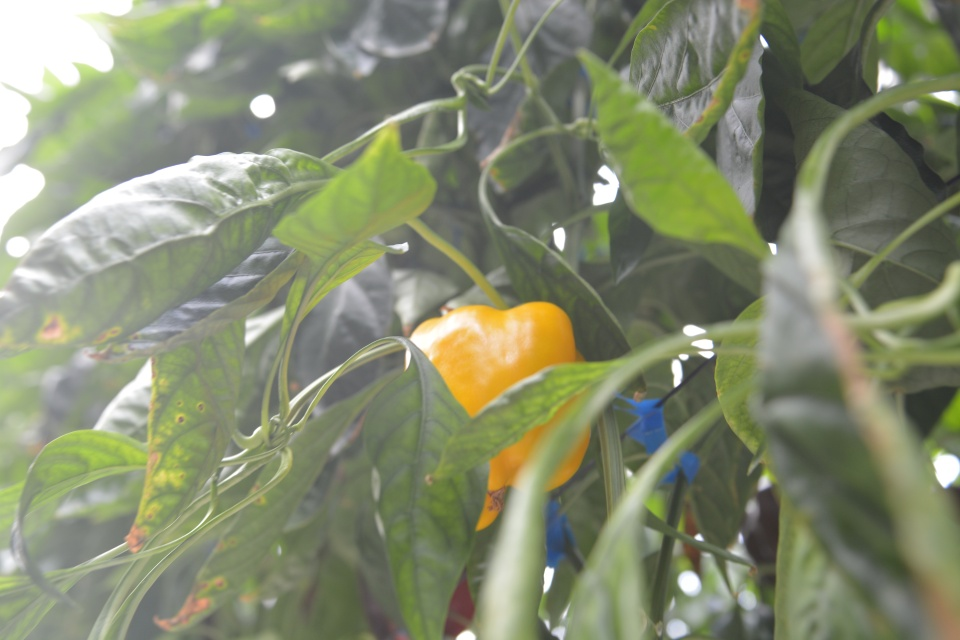fruit: (403, 302, 593, 532), (298, 539, 477, 640)
